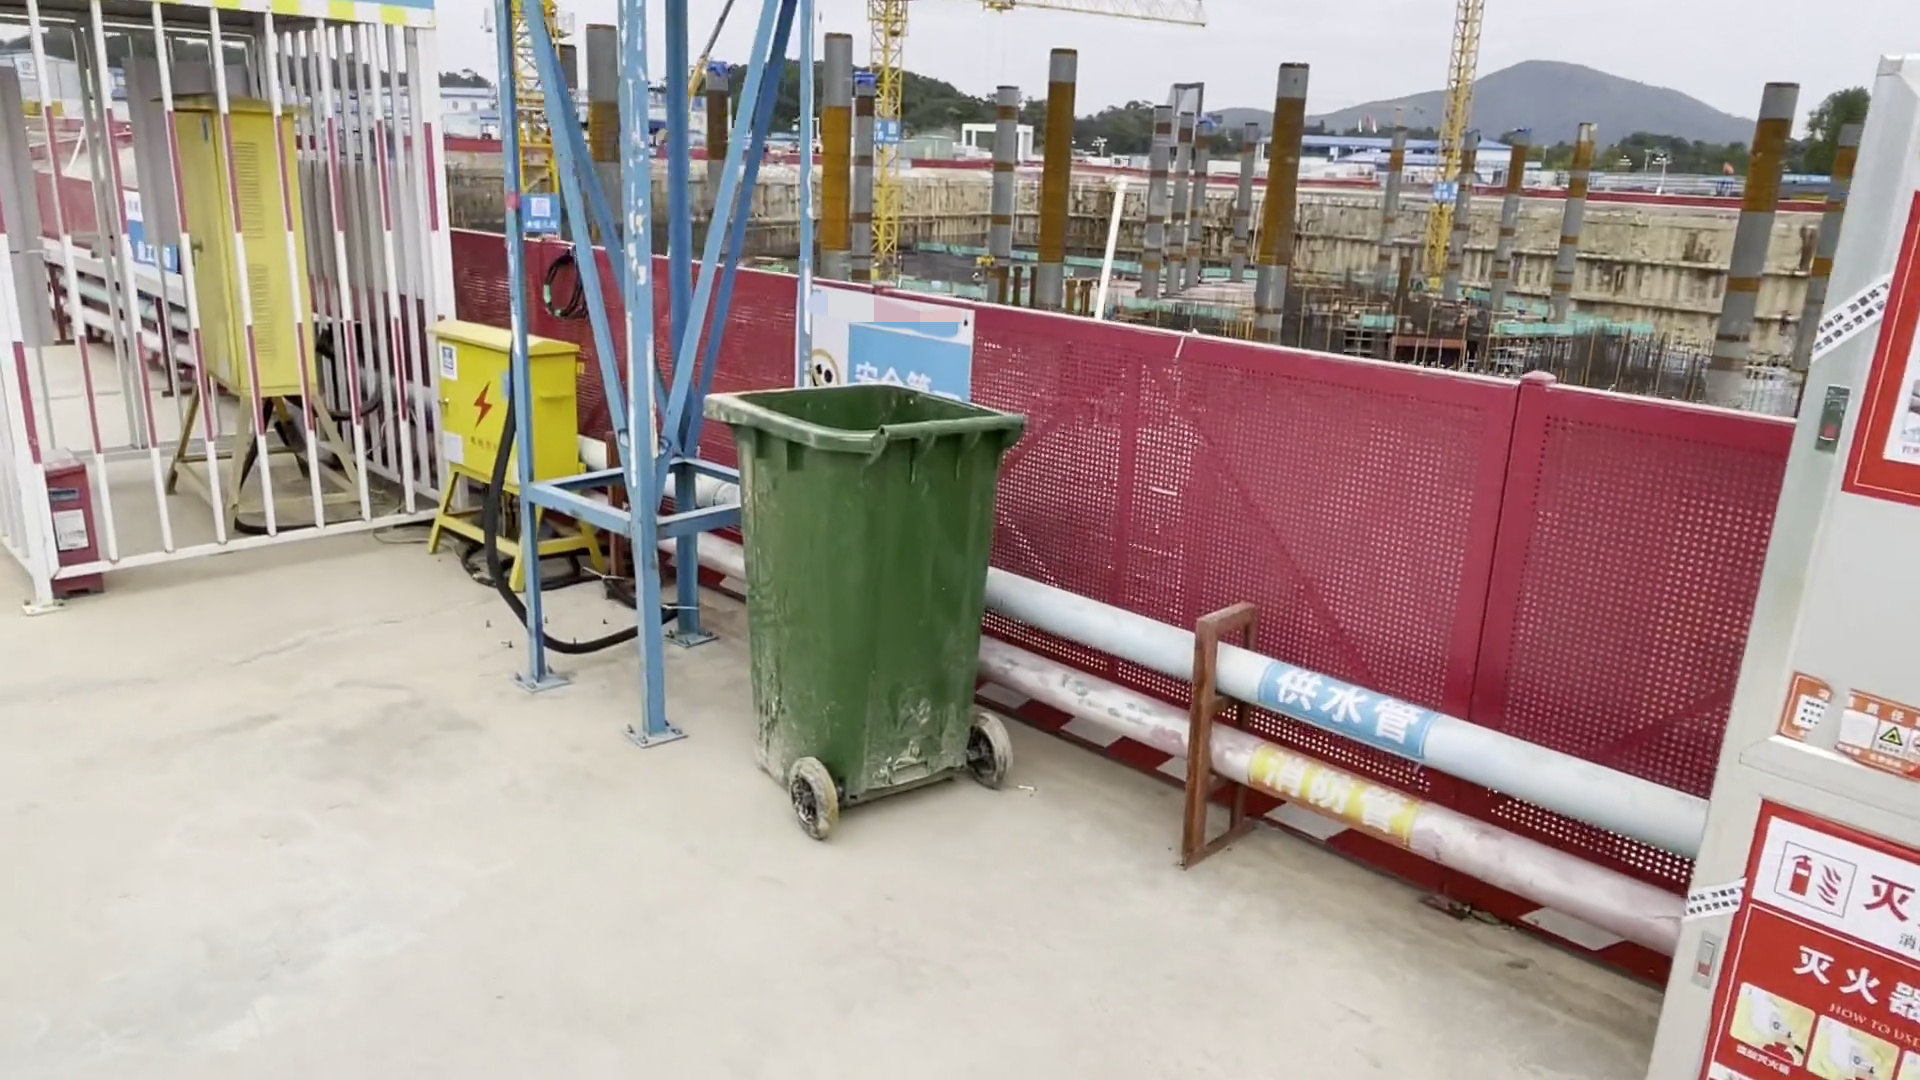ebox: (401, 291, 609, 584)
